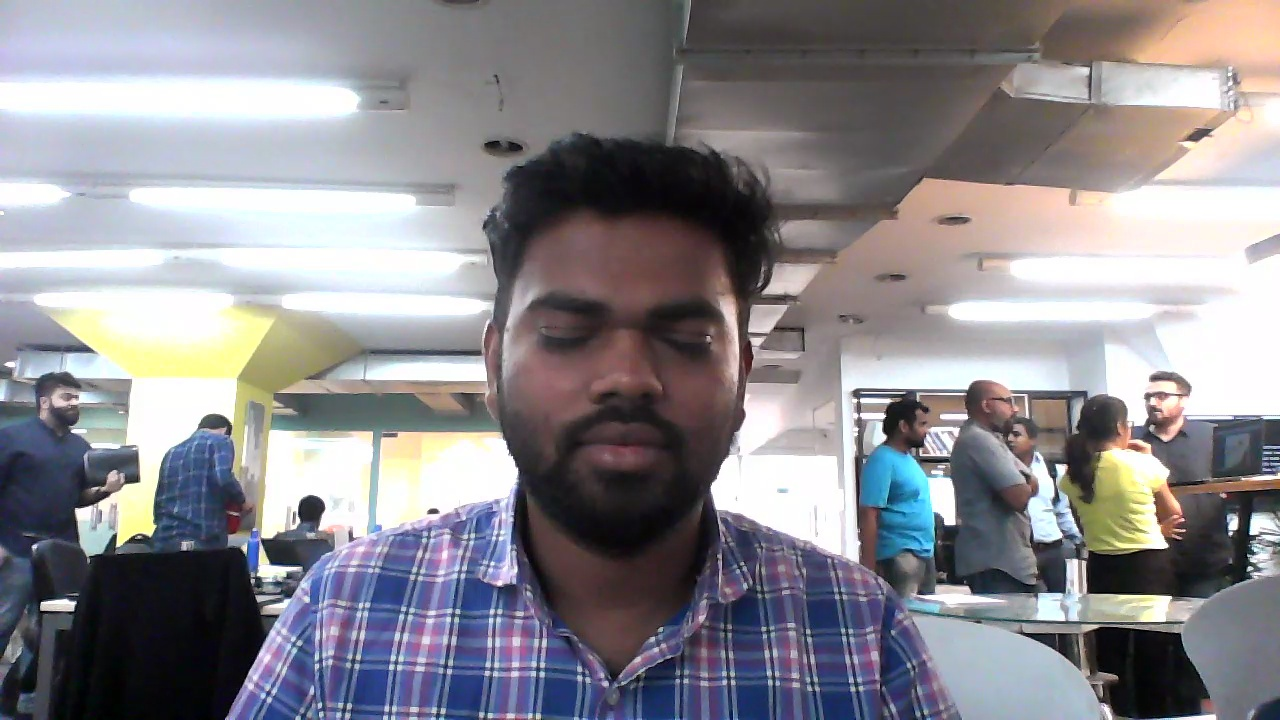closed: (479, 139, 758, 545)
